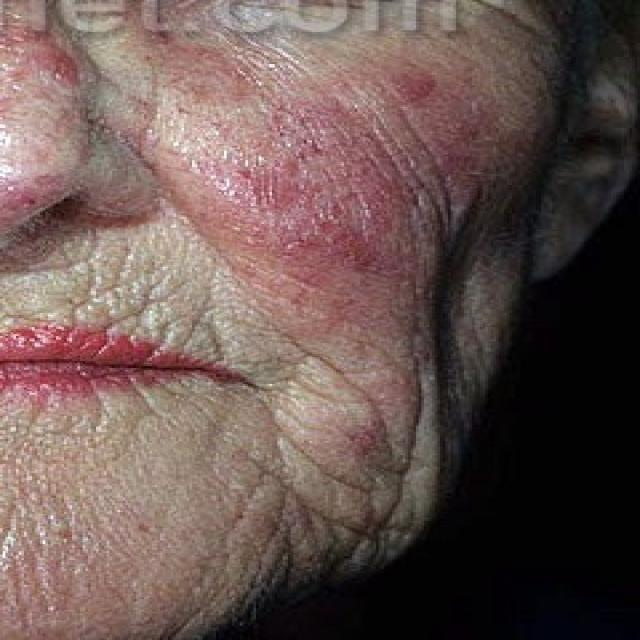Rosacea: (249, 93, 484, 297)
